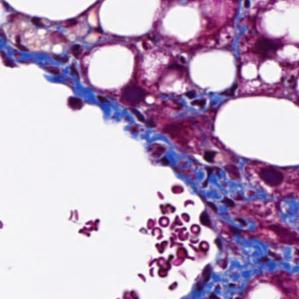inflammation: (176, 85, 212, 113)
